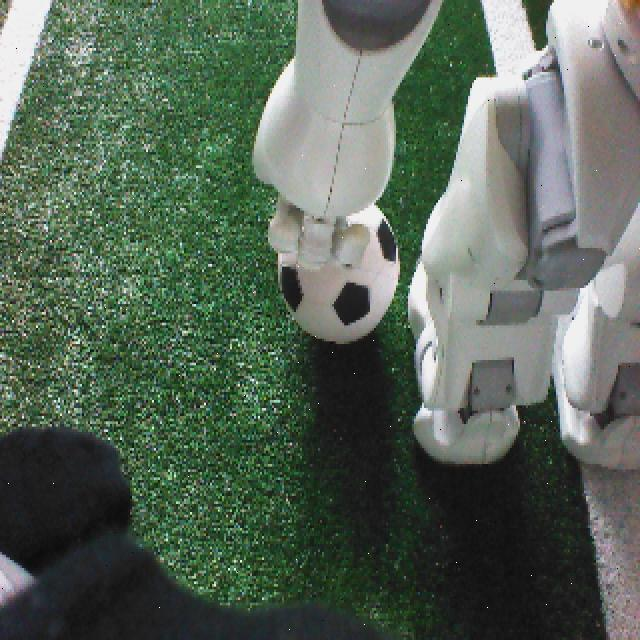ball: (276, 176, 404, 355)
